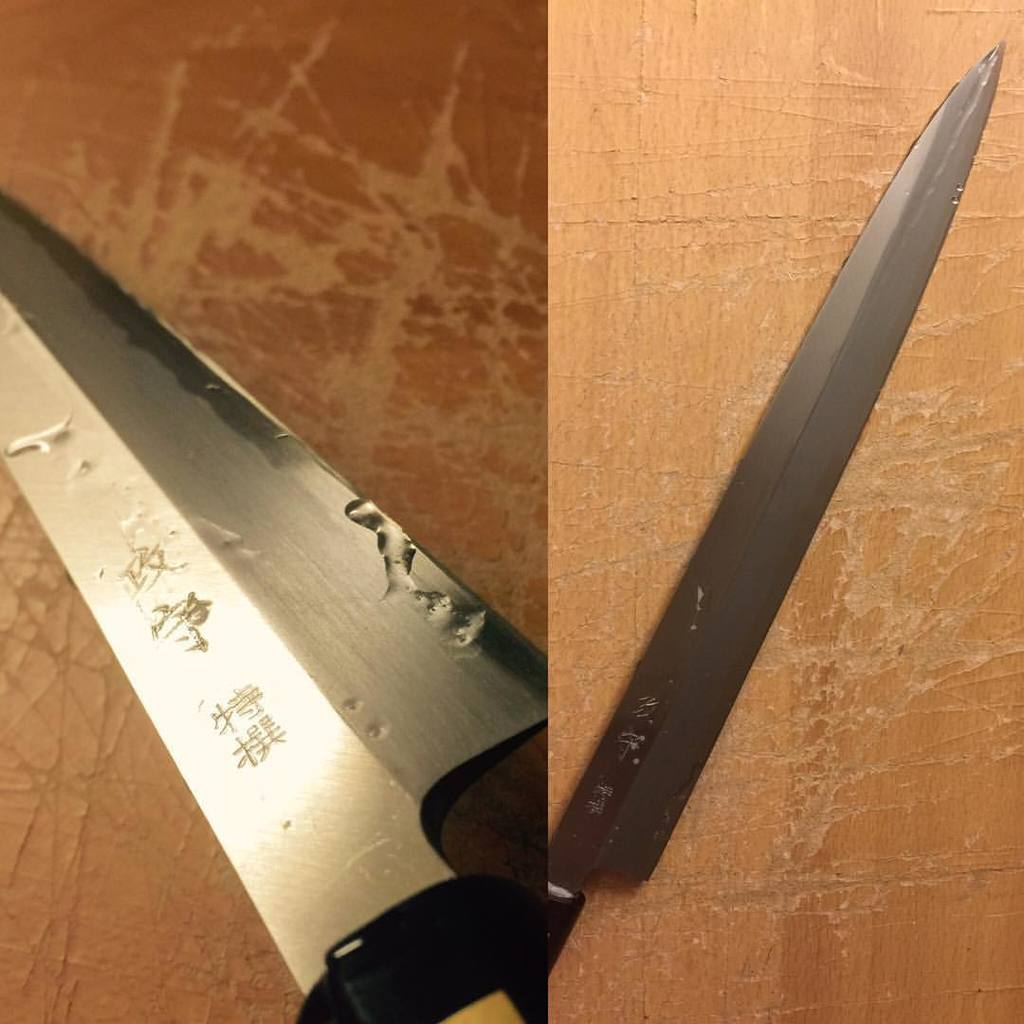knife: (547, 39, 1005, 975)
